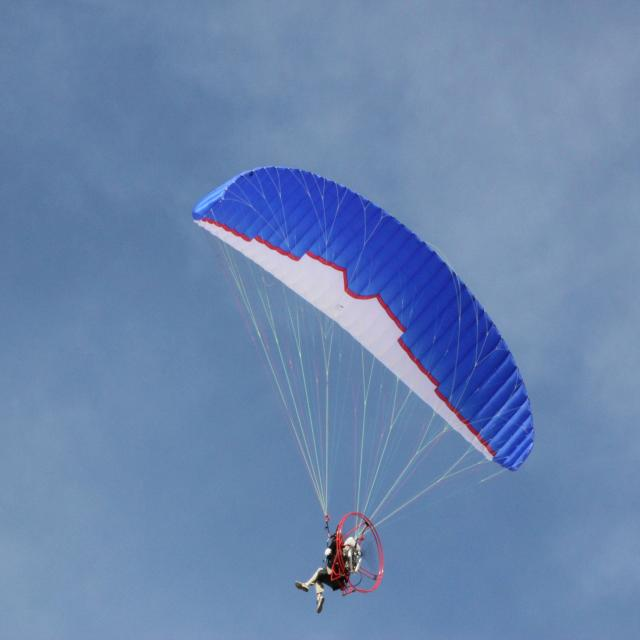paraglider: (184, 164, 551, 489)
